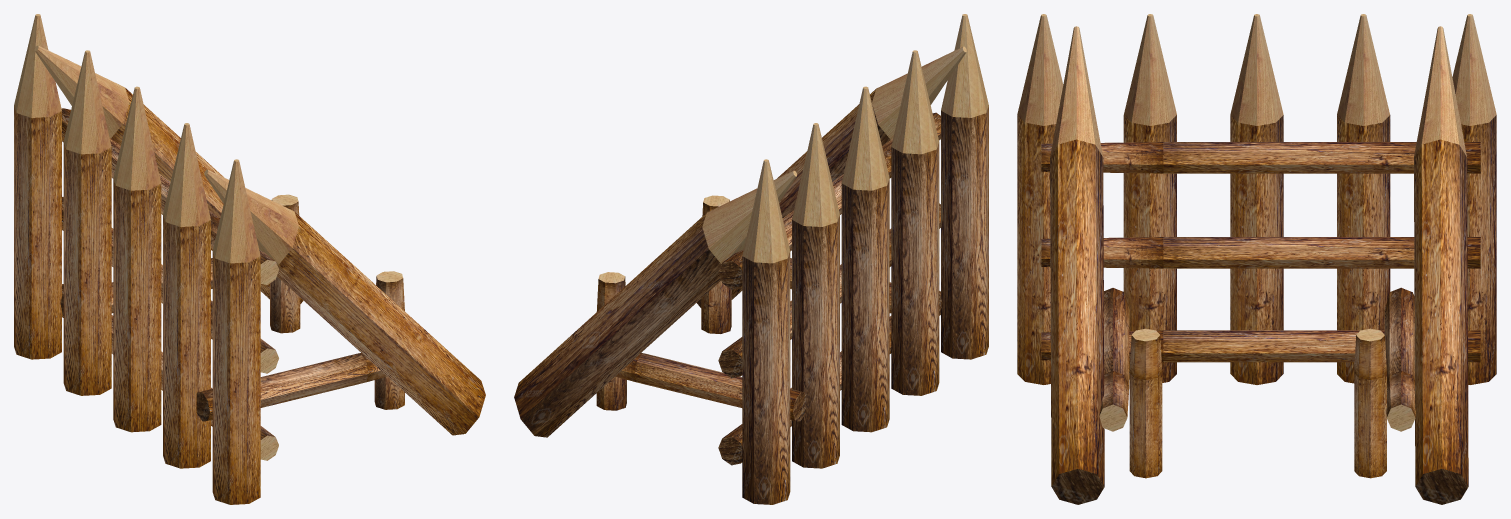
File: 戦国柵.fbx
3 renders of one model, left to right at view 1: azimuth 30°, elevation 25°; view 2: azimuth 150°, elevation 25°; view 3: azimuth 270°, elevation 25°, orthographic. The views are drawn at different scales.
Parts seen in each view (by area): view 1: 円柱.015; view 2: 円柱.015; view 3: 円柱.015.
Part boxes in pixels (x1,y1,x2,y2): 円柱.015: [14, 14, 485, 504]; 円柱.015: [514, 14, 988, 504]; 円柱.015: [1017, 14, 1496, 504].
Bounding box in the file's own units: 4.59 × 5.34 × 6.3.
Materials: 29 (29 with a texture image).
